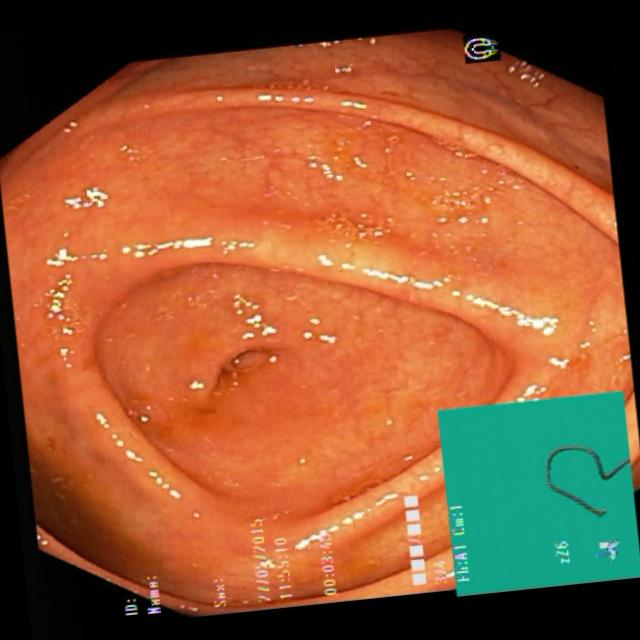normal-cecum: (24, 415, 157, 589), (297, 102, 466, 217), (103, 367, 223, 458)
